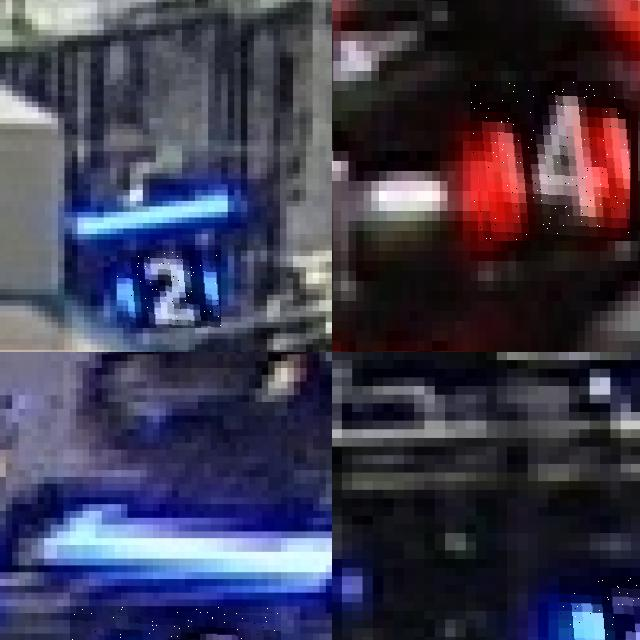B2: (117, 250, 221, 328), (558, 576, 640, 640)
B4: (70, 606, 281, 640)
R4: (470, 81, 630, 241), (332, 0, 432, 101)
